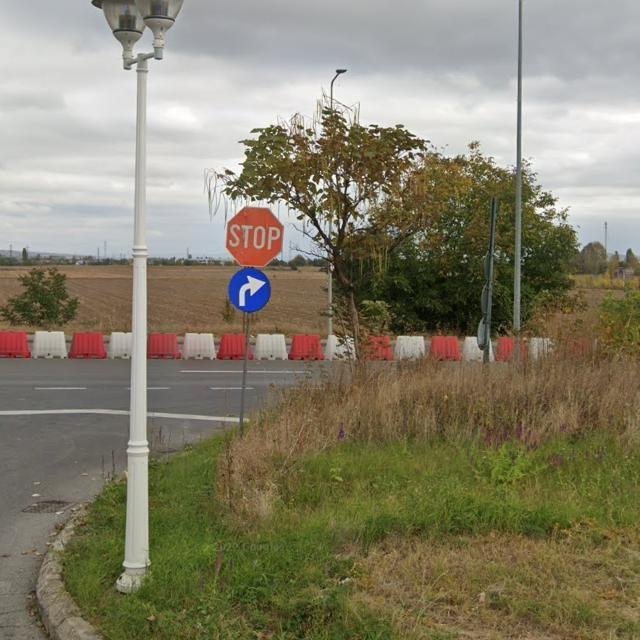prio_stop: (225, 208, 283, 268)
